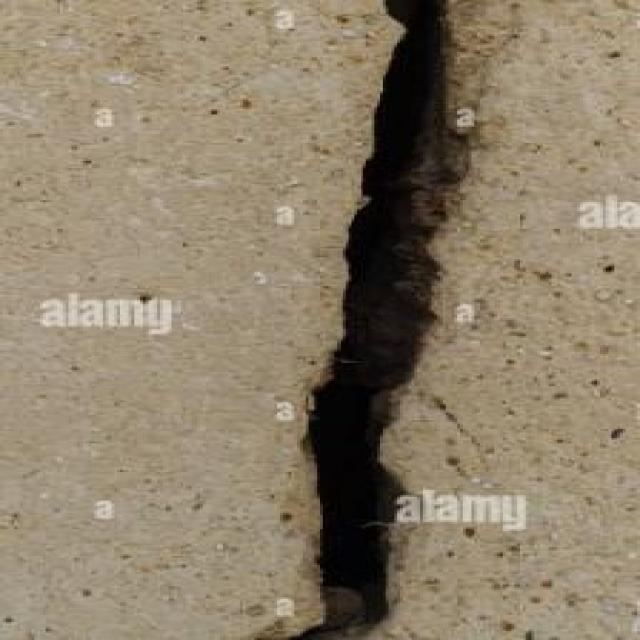Crack: (230, 0, 490, 640)
